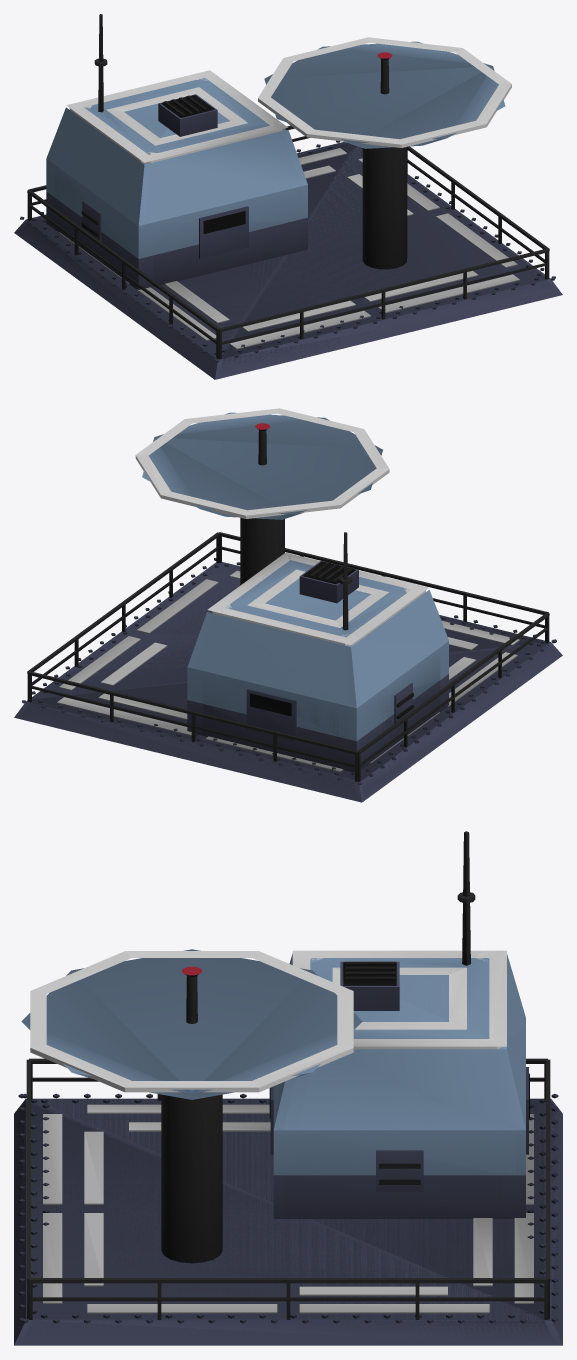
The model's file is veyran_radar.glb.
3 renders of one model, top to bottom at view 1: azimuth 30°, elevation 25°; view 2: azimuth 150°, elevation 25°; view 3: azimuth 270°, elevation 25°, orthographic. The views are drawn at different scales.
Parts seen in each view (by area): view 1: body (×3); view 2: body (×3); view 3: body (×3).
Part boxes in pixels (left/top/right/bottom): body (×3): left=14, top=14, right=562, bottom=379; body (×3): left=14, top=408, right=562, bottom=802; body (×3): left=14, top=831, right=562, bottom=1345.
Size of the model in its own units: 7.4 by 4.7 by 7.4.
